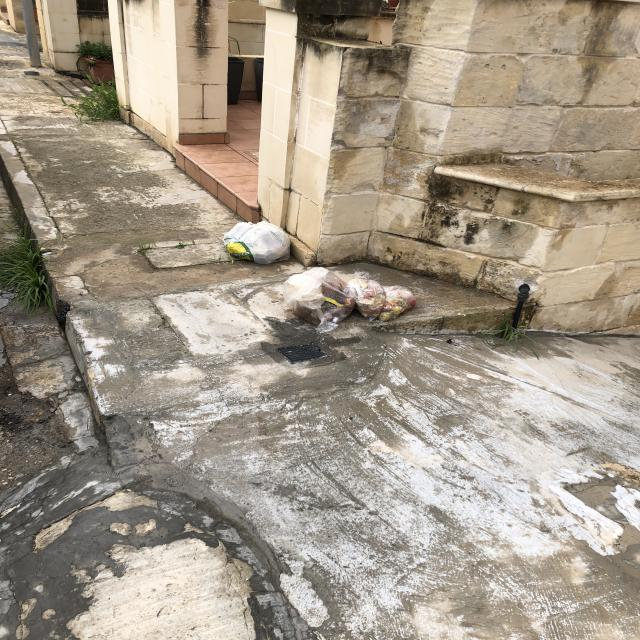Organic Waste -White Bag-: (283, 267, 418, 331), (222, 220, 291, 266)
